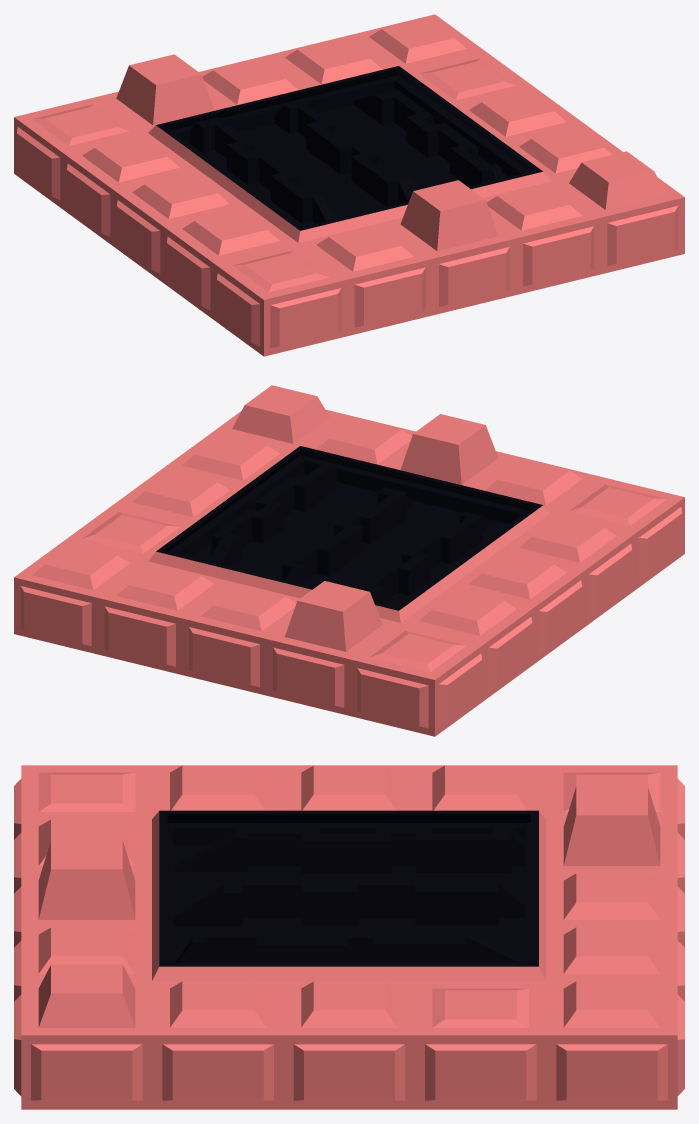
Rendered from SM_Door2.fbx.
3 renders of one model, top to bottom at view 1: azimuth 30°, elevation 25°; view 2: azimuth 150°, elevation 25°; view 3: azimuth 270°, elevation 25°, orthographic. The views are drawn at different scales.
Parts seen in each view (by area): view 1: Box029; view 2: Box029; view 3: Box029.
Boxes of the visible parts, x1,y1,x2,y2 form: Box029: (14,14,684,356); Box029: (14,385,684,736); Box029: (14,765,684,1109).
Size of the model in its own units: 896 by 182 by 920.
